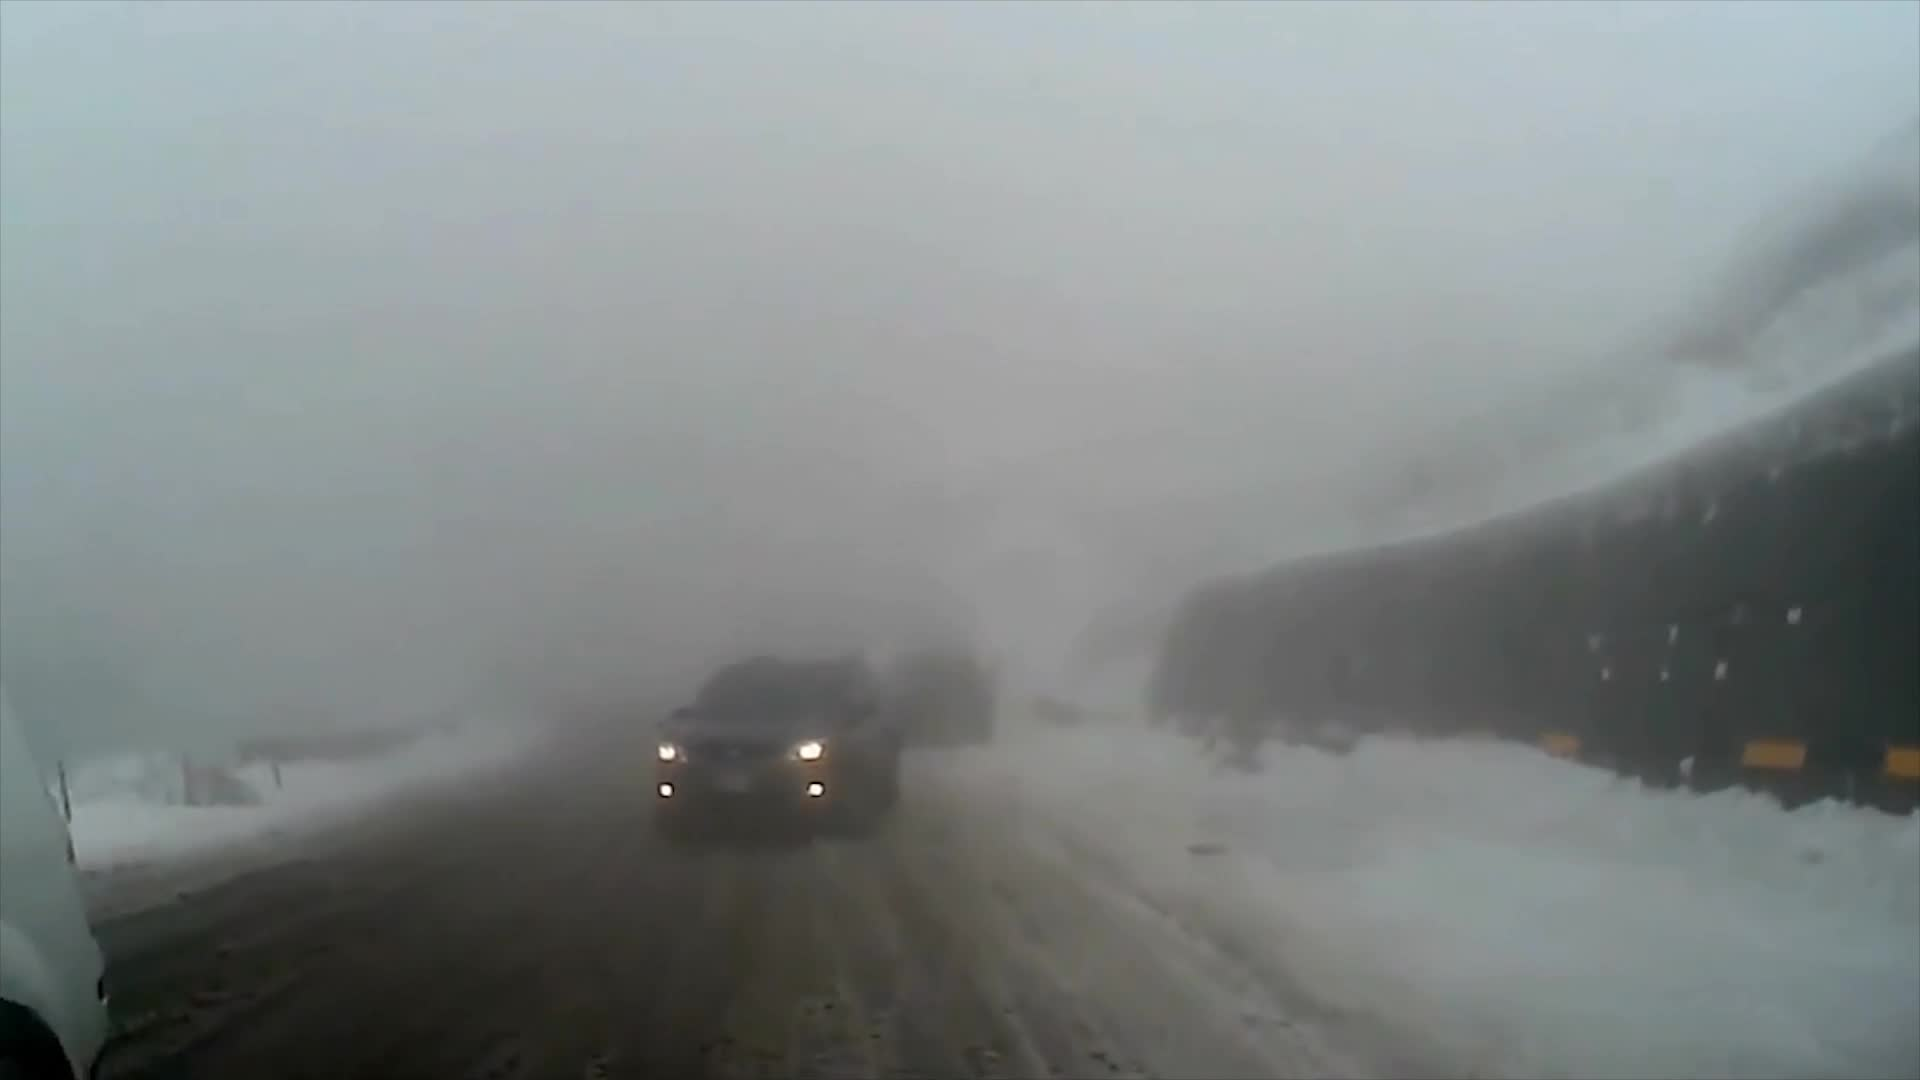vehicle: (644, 653, 895, 843), (0, 704, 111, 1079)
